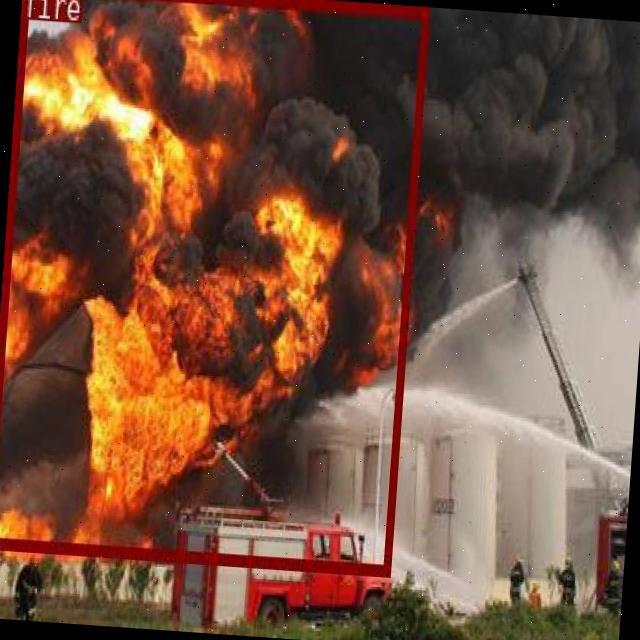fire: (0, 0, 427, 574)
